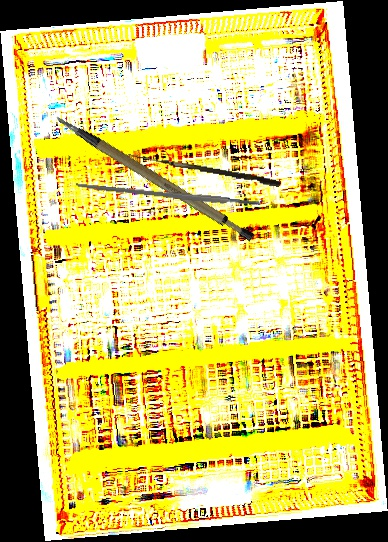Hook Surgical: (126, 153, 281, 188)
Scalpel Handle: (53, 85, 258, 266), (75, 181, 261, 209)
